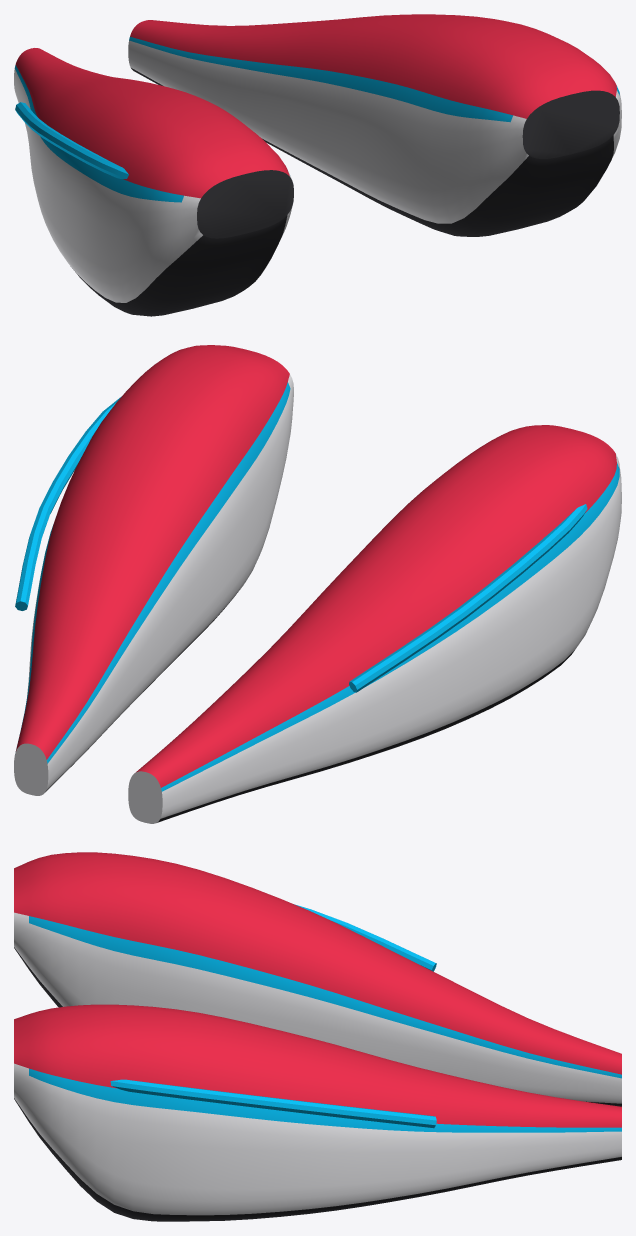
File: bulge.glb
3 renders of one model, top to bottom at view 1: azimuth 30°, elevation 25°; view 2: azimuth 150°, elevation 25°; view 3: azimuth 270°, elevation 25°, orthographic. The views are drawn at different scales.
Visible parts, largest first — view 1: Sidepods_bulge; view 2: Sidepods_bulge; view 3: Sidepods_bulge.
Part boxes in pixels (x1,y1,x2,y2): Sidepods_bulge: [14, 14, 621, 316]; Sidepods_bulge: [14, 345, 621, 823]; Sidepods_bulge: [14, 852, 621, 1221].
Bounding box in the file's own units: 1.66 × 0.6724 × 1.94.
